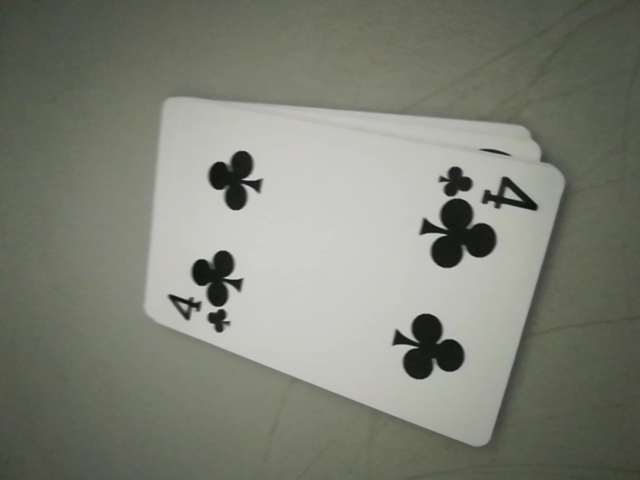mh 4: (435, 159, 543, 210), (160, 292, 237, 337)
